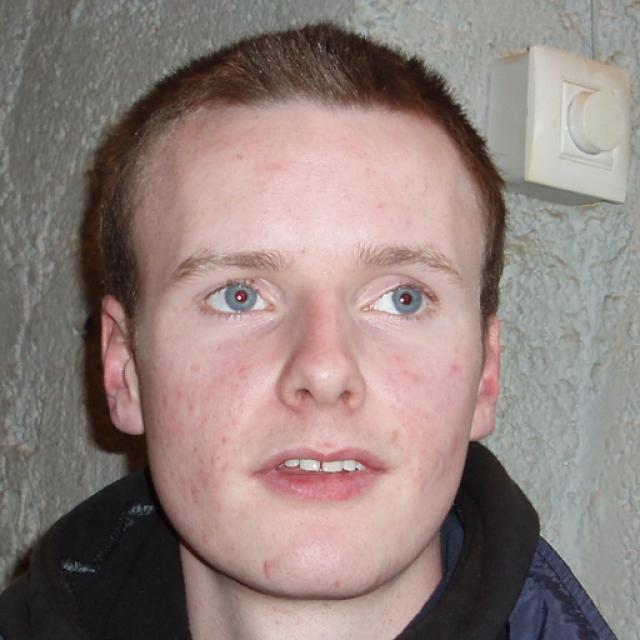neutral: (134, 100, 484, 608)
